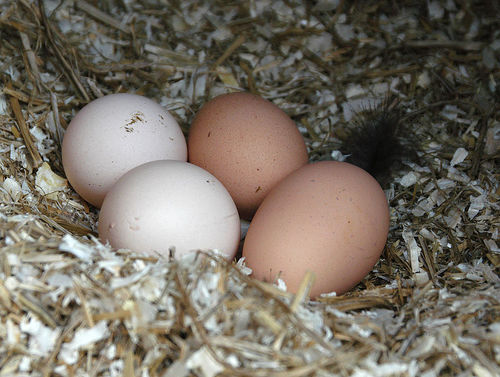egg: (57, 90, 412, 313)
